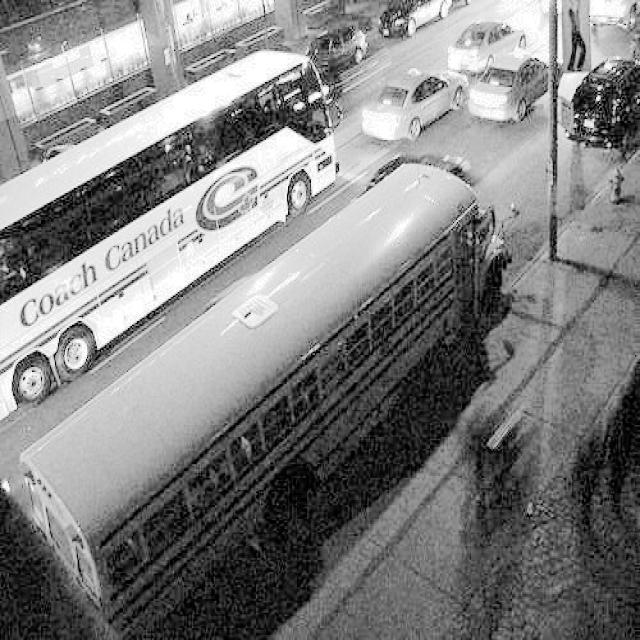Bus: (25, 138, 507, 638), (3, 43, 353, 447)
Car: (365, 61, 474, 148), (566, 49, 640, 153), (471, 46, 540, 124), (453, 18, 533, 81), (296, 22, 366, 76), (374, 0, 458, 36)
